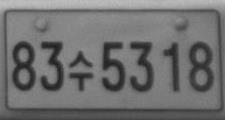1: (161, 41, 186, 92)
3: (129, 40, 154, 92), (40, 41, 64, 92)
5: (101, 40, 125, 92)
8: (187, 40, 214, 93), (11, 40, 36, 91)
수: (68, 49, 94, 91)
